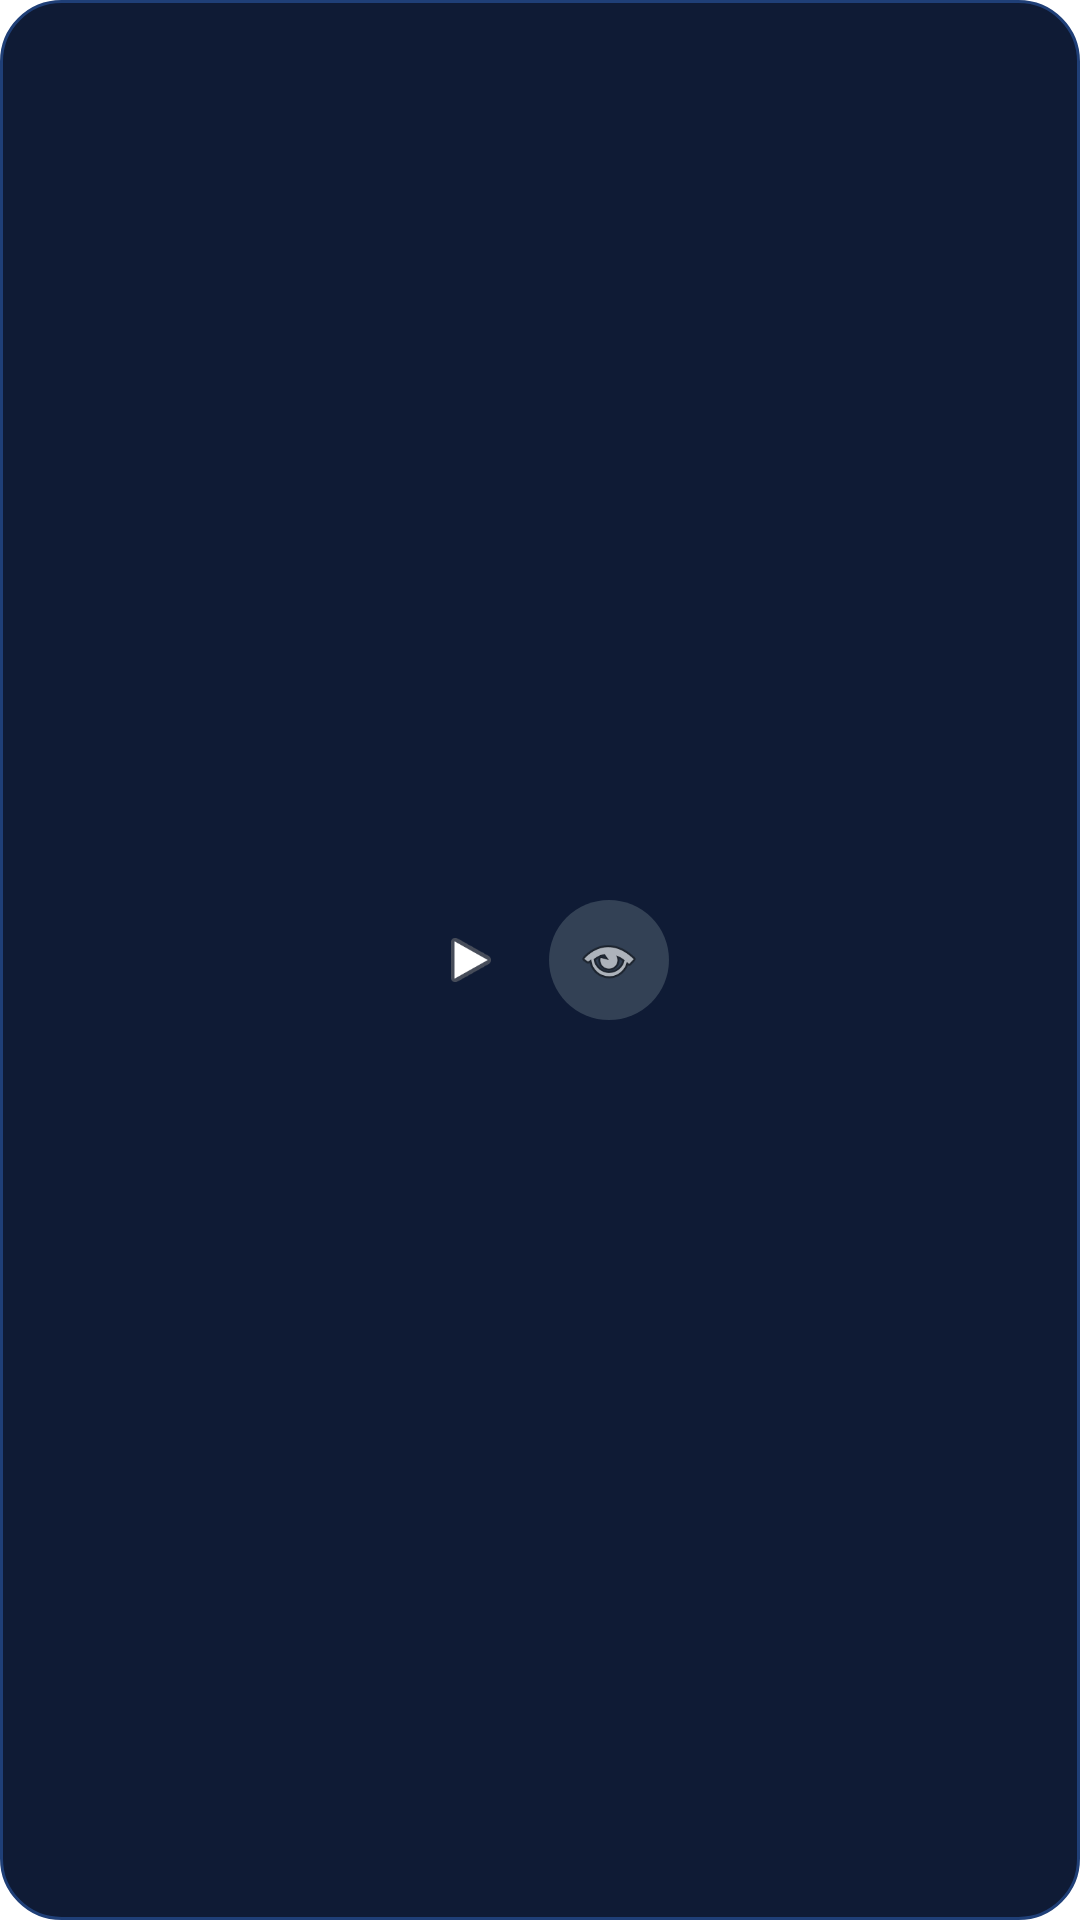

Icons on this 1080 x 1920 Android screen, each with the point to tap as (x=x, y=y):
play: (x=471, y=960)
view: (x=609, y=960)
